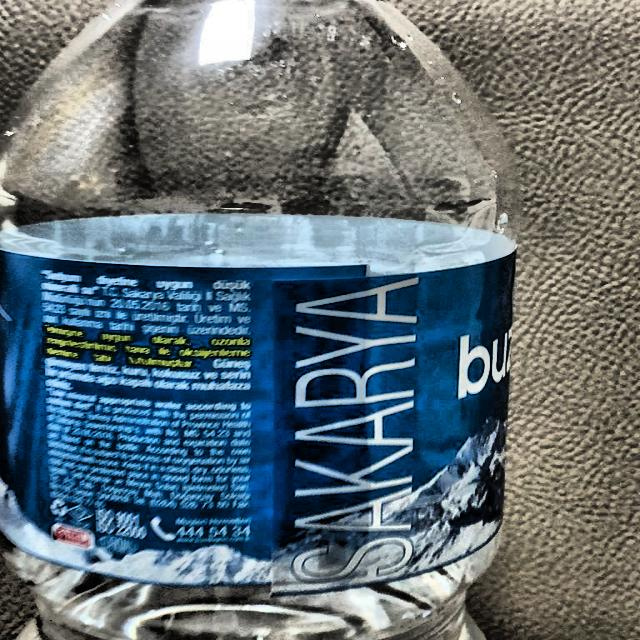plastic: (0, 0, 517, 640)
